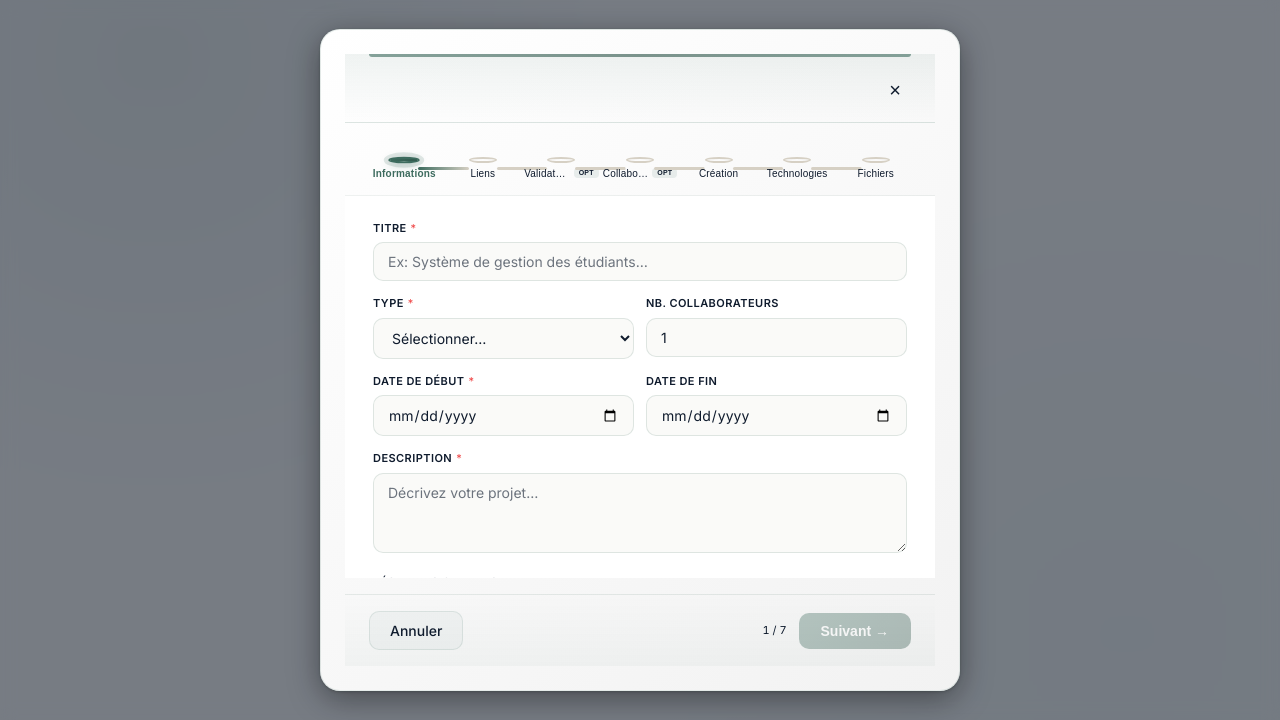
Scenario: ProjetFormModal.vue — événements › le bouton Suivant est activé quand le formulaire est valide
Type "Mon projet" into the field with placeholder "Ex: Système de gestion des étudiants…".
click(640, 262); type("Mon projet")  # box [373,242,907,281]
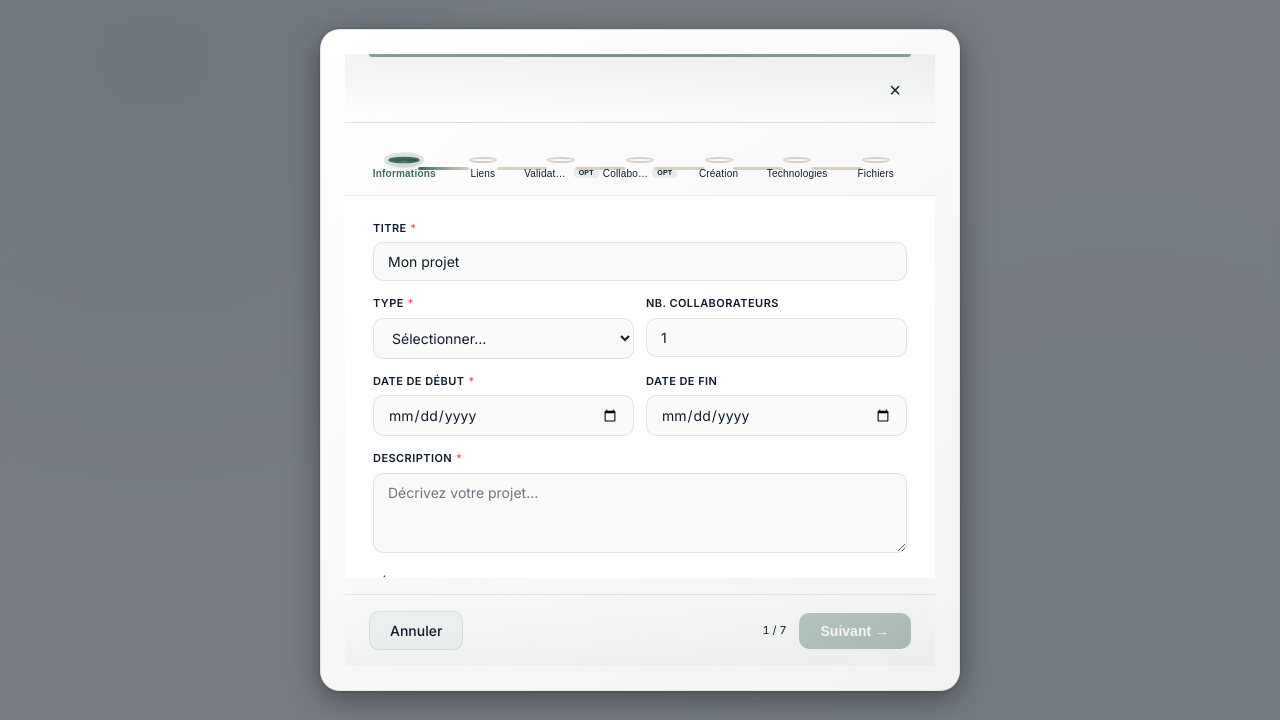
Select "Module" in the 2nd dropdown with class "form-input" at (504, 338), box [373,318,634,359]
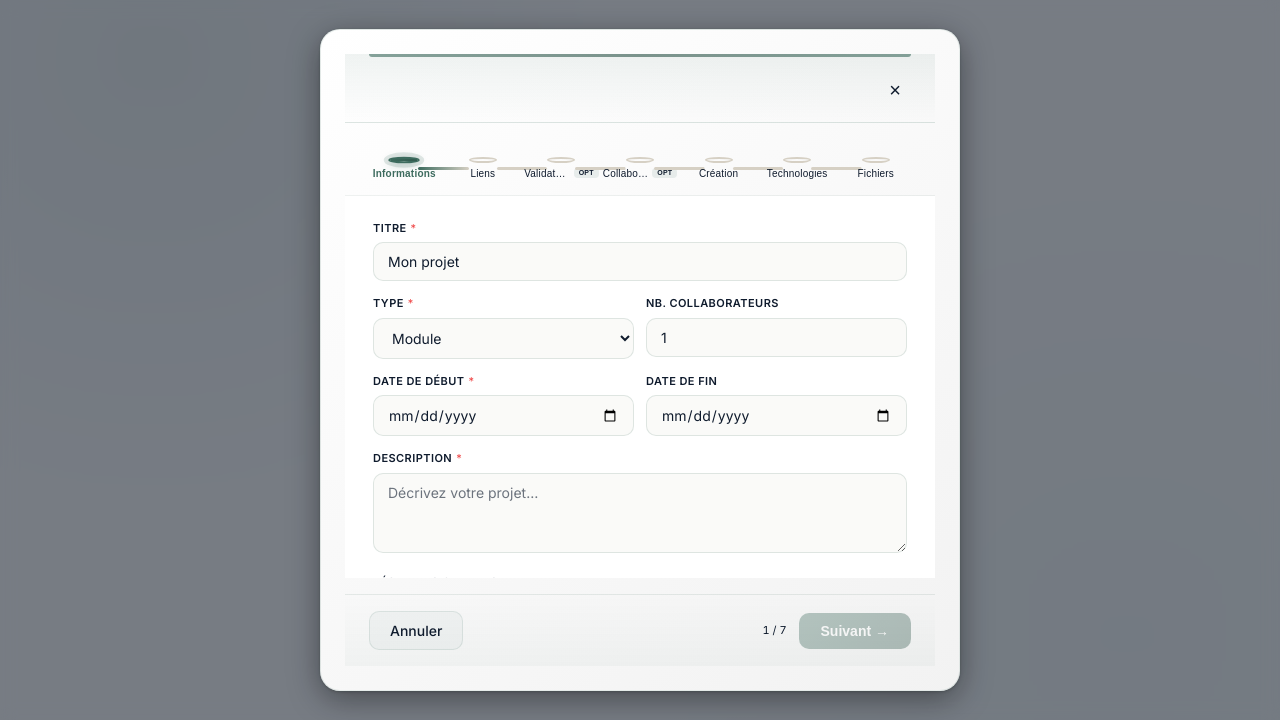
Type "2024-01-01" into the date field below "Date de début".
click(504, 416); type("2024-01-01")  # box [373,395,634,436]
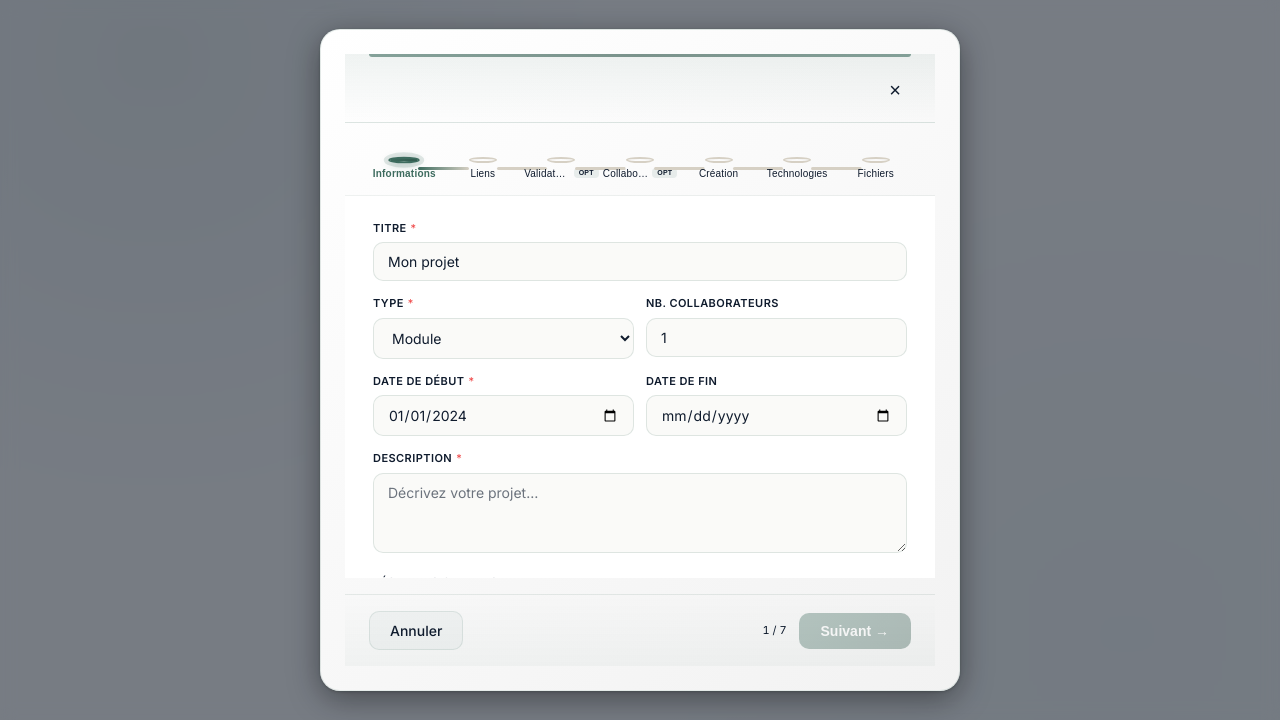
Type "Description" into the text box with placeholder "Décrivez votre projet…".
click(640, 513); type("Description")  # box [373,473,907,553]
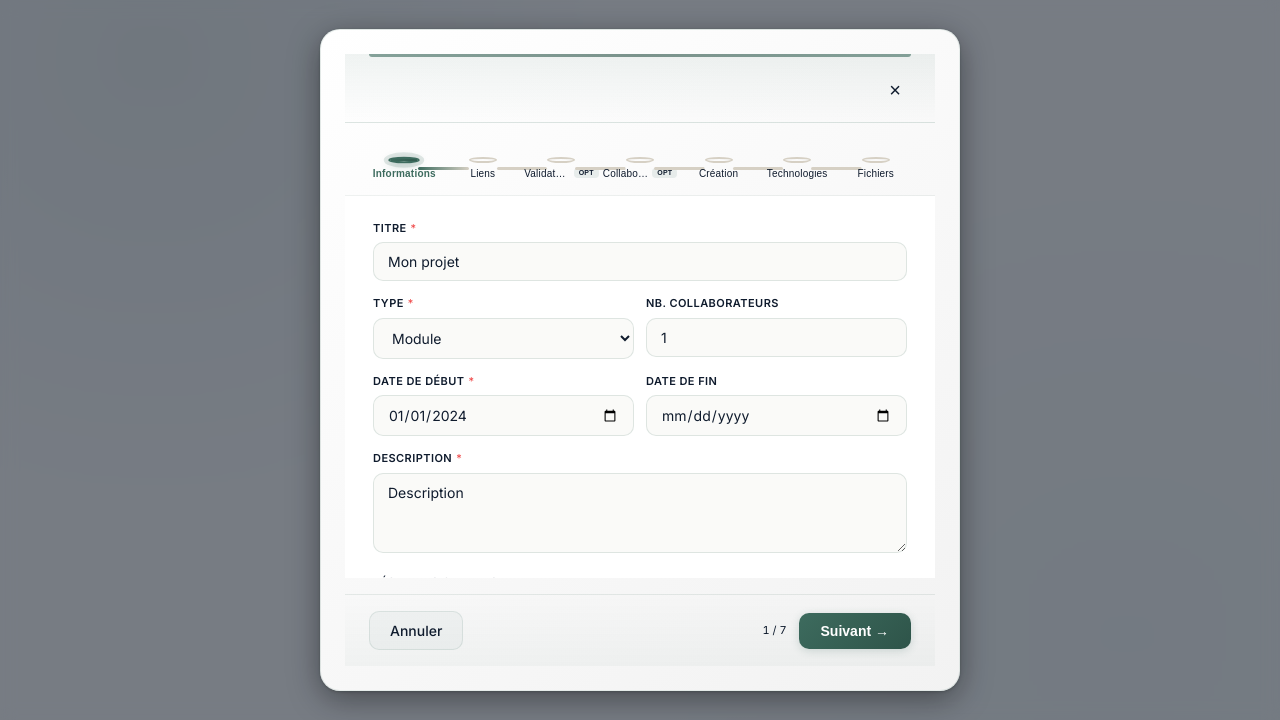
Now the button with class "btn-submit" is enabled, box [798,613,911,649]
